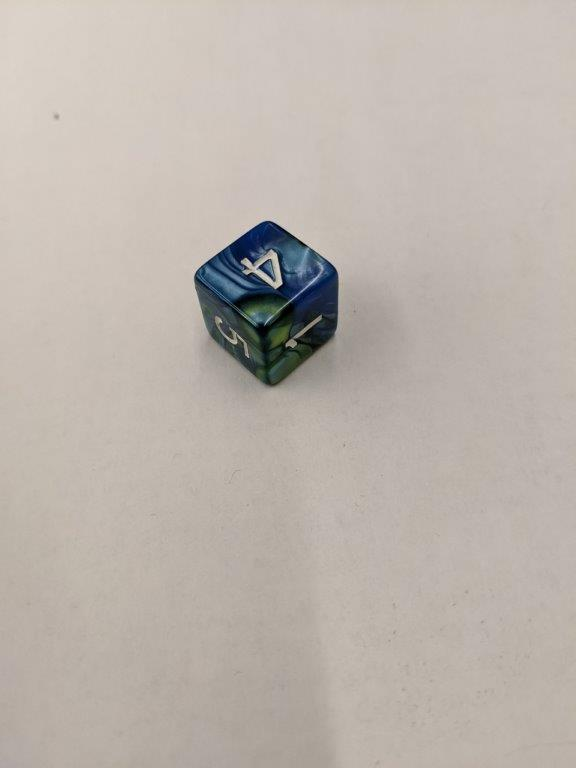d6-4: (193, 218, 341, 388)
